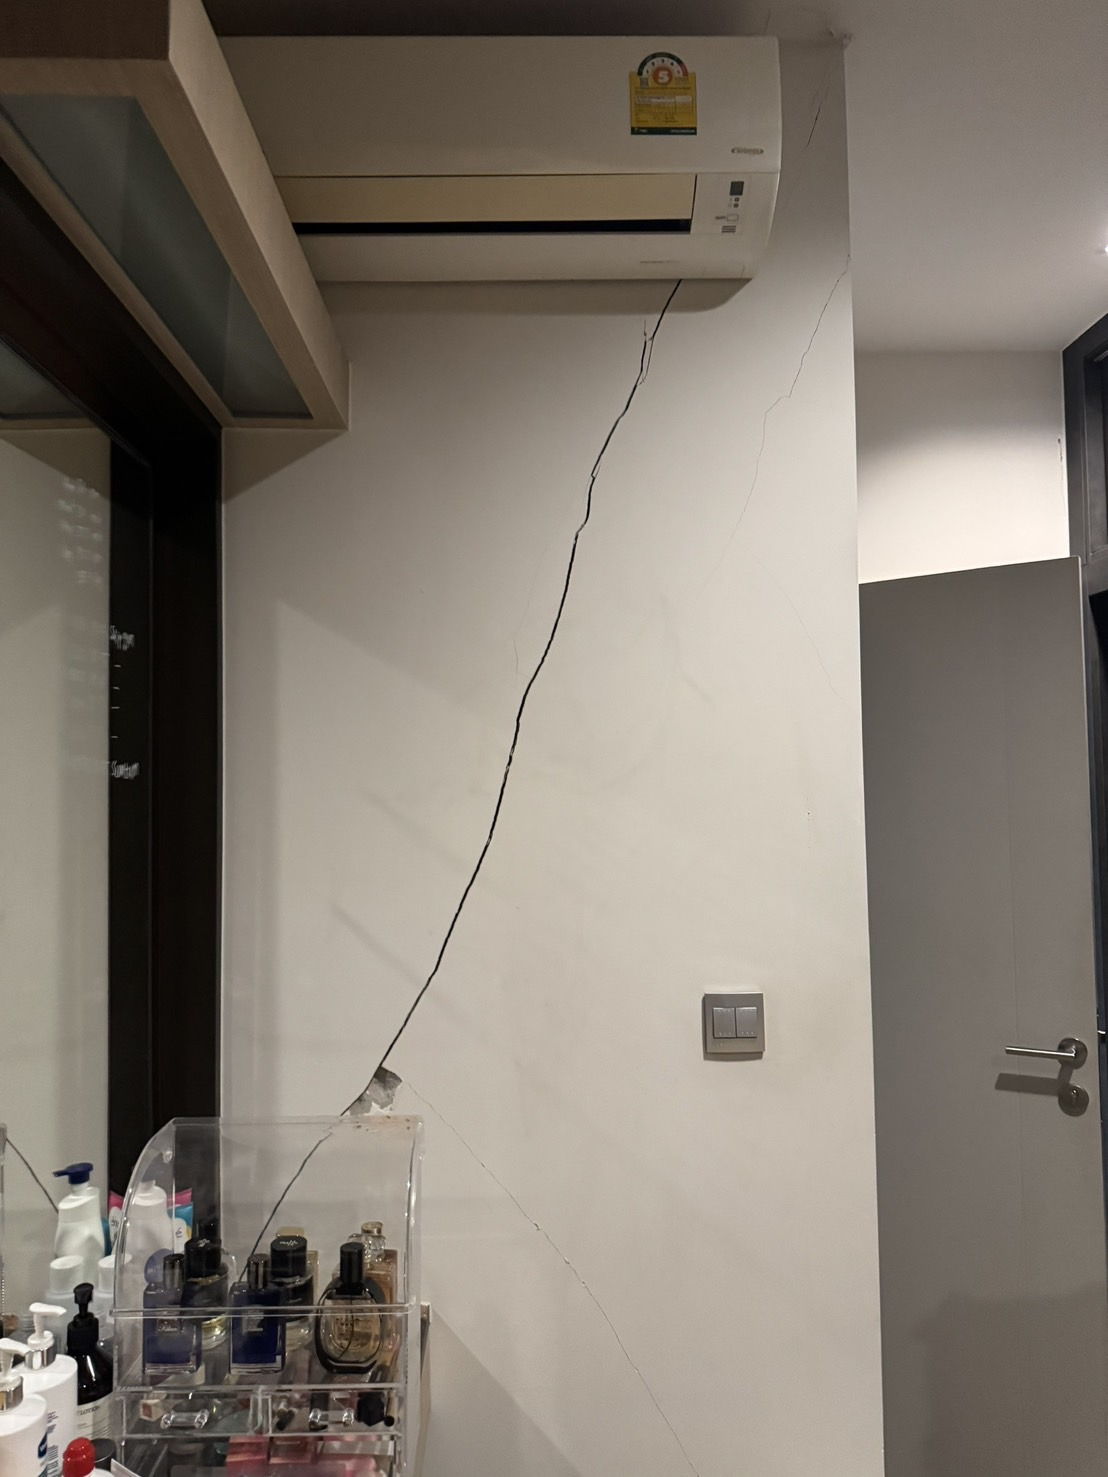Medium: (433, 332, 647, 1003)
